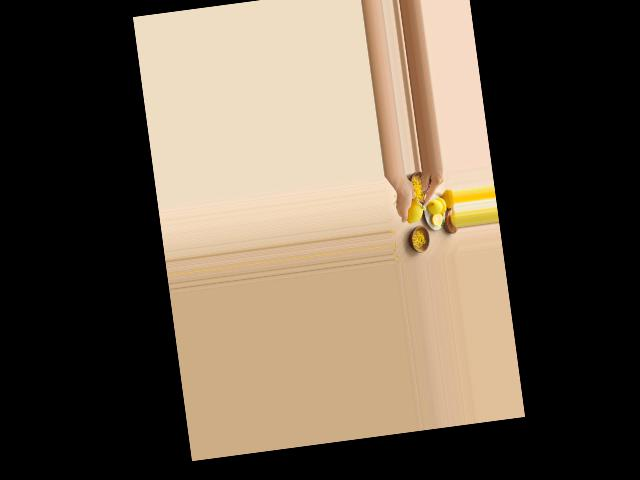lemon: (400, 196, 425, 223)
